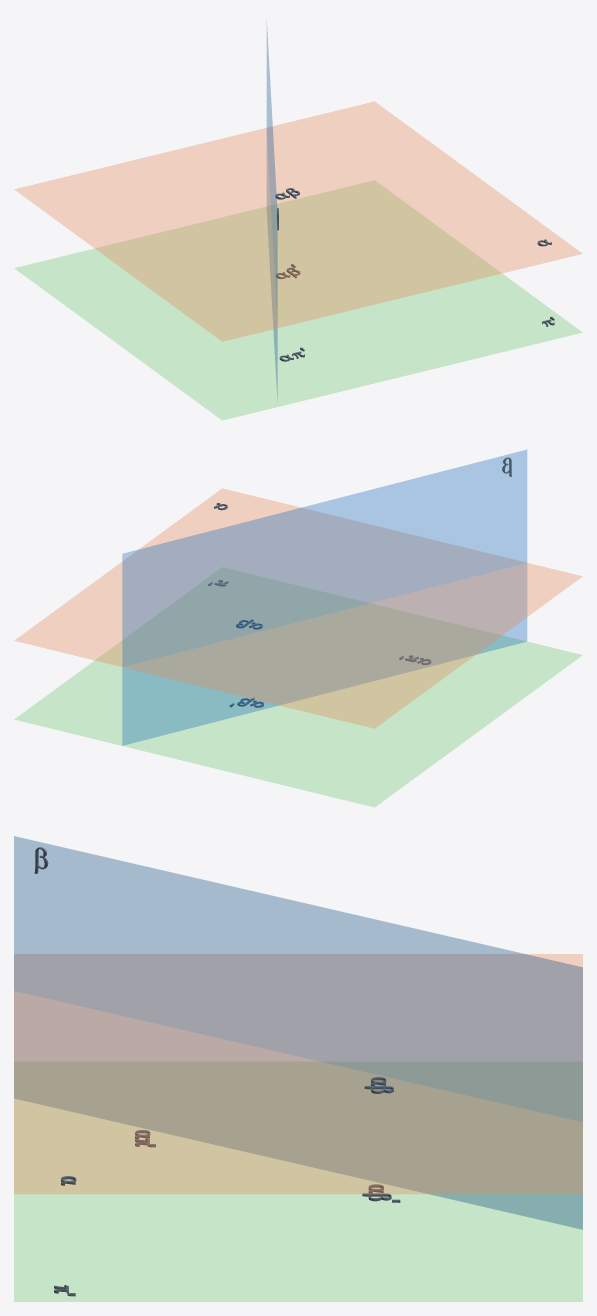
Rendered from int_pv_ph.glb.
3 views of the same model, one above another, from view 1: azimuth 30°, elevation 25°; view 2: azimuth 150°, elevation 25°; view 3: azimuth 270°, elevation 25° (orthographic). The views are drawn at different scales.
Parts seen in each view (by area): view 1: root; view 2: root; view 3: root.
Part boxes in pixels (box(x1,y1,x2,y2)): root: box(14, 32, 582, 420); root: box(14, 450, 582, 807); root: box(14, 836, 582, 1301).
Size of the model in its own units: 2.54 by 1.29 by 2.54.
